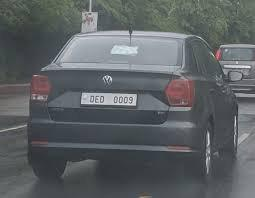Liscence Plate: (79, 91, 139, 106)
